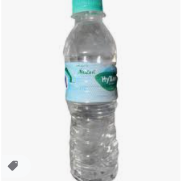Bottle: (62, 1, 121, 181)
